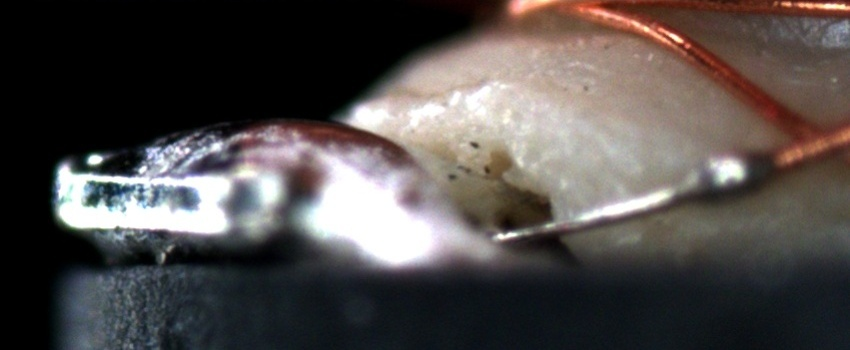TB: (688, 152, 773, 207)
TS: (490, 156, 775, 245)
TTCW: (490, 135, 822, 245)
